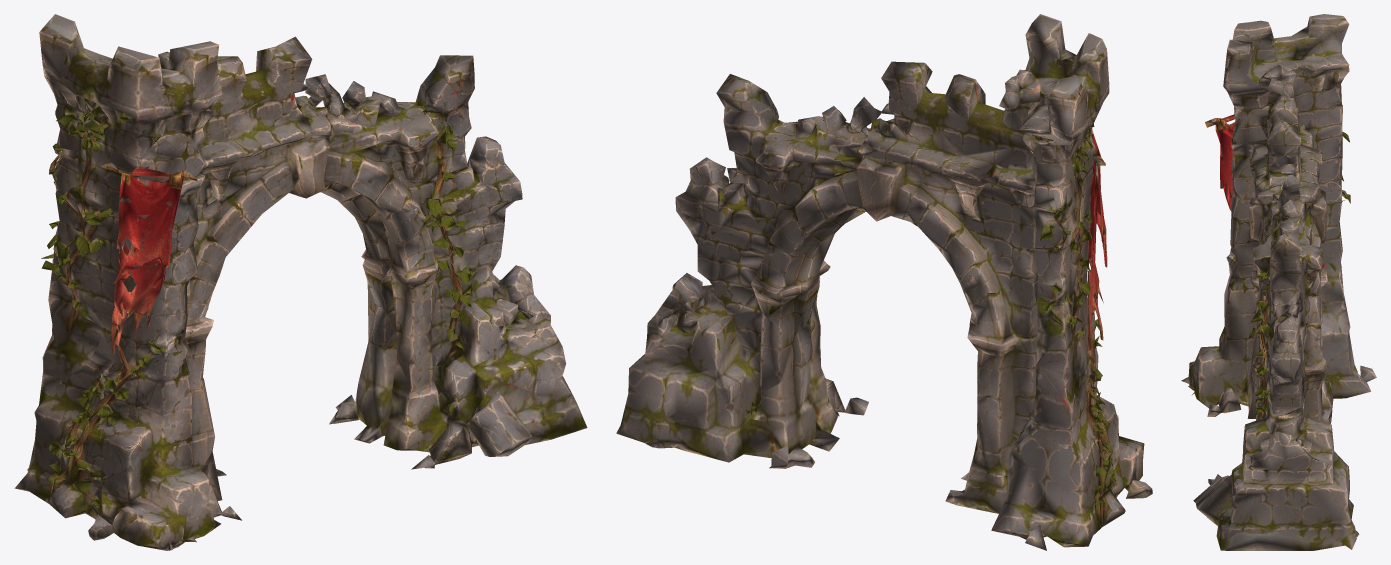
Rendered from gothic_gate.glb.
3 renders of one model, left to right at view 1: azimuth 30°, elevation 25°; view 2: azimuth 150°, elevation 25°; view 3: azimuth 270°, elevation 25°, orthographic. The views are drawn at different scales.
Visible parts, largest first — view 1: gothic_gate; view 2: gothic_gate; view 3: gothic_gate.
Part boxes in pixels (bbox=[...]): gothic_gate: bbox=[14, 14, 587, 550]; gothic_gate: bbox=[616, 14, 1152, 550]; gothic_gate: bbox=[1181, 14, 1376, 550].
Bounding box in the file's own units: 1.89 × 1.73 × 0.8389.
1 material, 1 textured.
